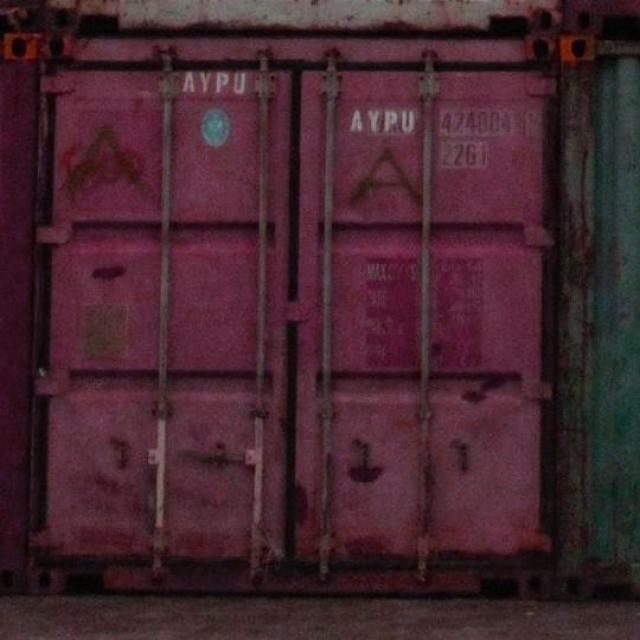ISO: (434, 136, 492, 172)
container_number: (364, 108, 530, 136)
